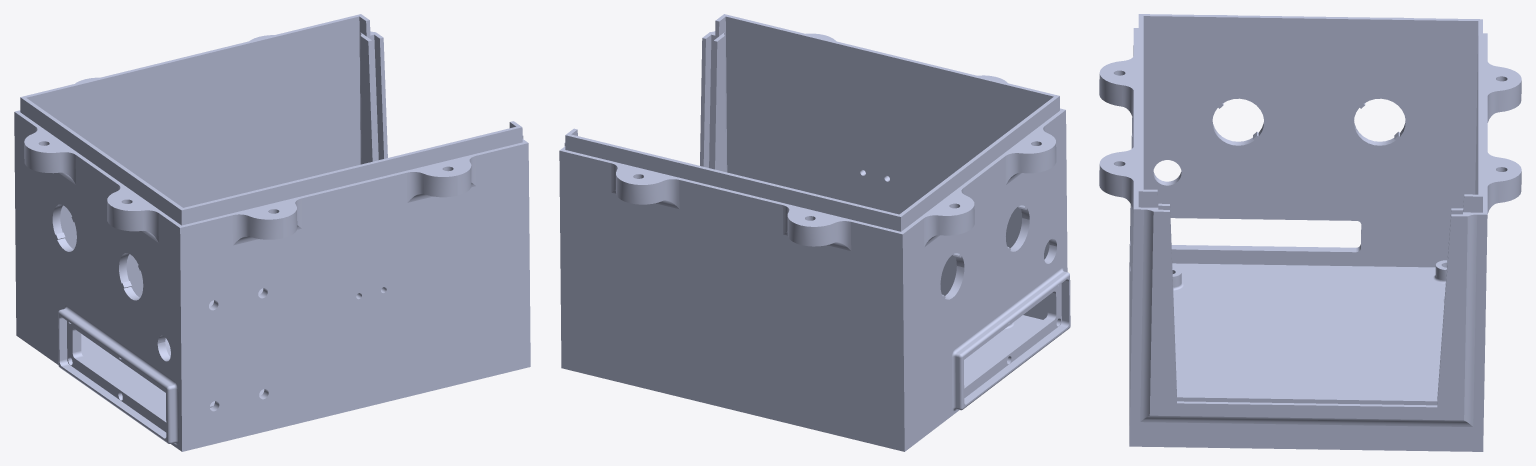
3 views of the same model, side by side, from view 1: azimuth 30°, elevation 25°; view 2: azimuth 150°, elevation 25°; view 3: azimuth 270°, elevation 25° (orthographic). The views are drawn at different scales.
Parts seen in each view (by area): view 1: empty_2; view 2: empty_2; view 3: empty_2.
Part boxes in pixels (x1,y1,x2,y2): empty_2: (14,14,530,451); empty_2: (559,14,1070,451); empty_2: (1099,14,1521,451).
Size of the model in its own units: 198 by 121 by 179.
